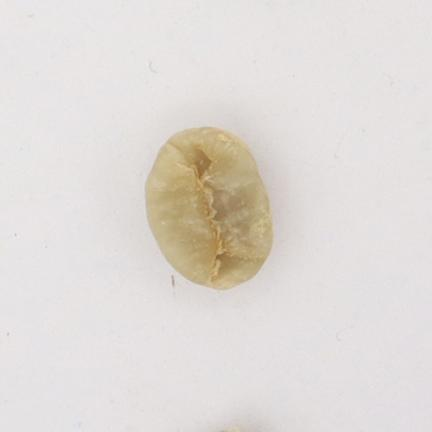immature: (147, 128, 272, 289)
